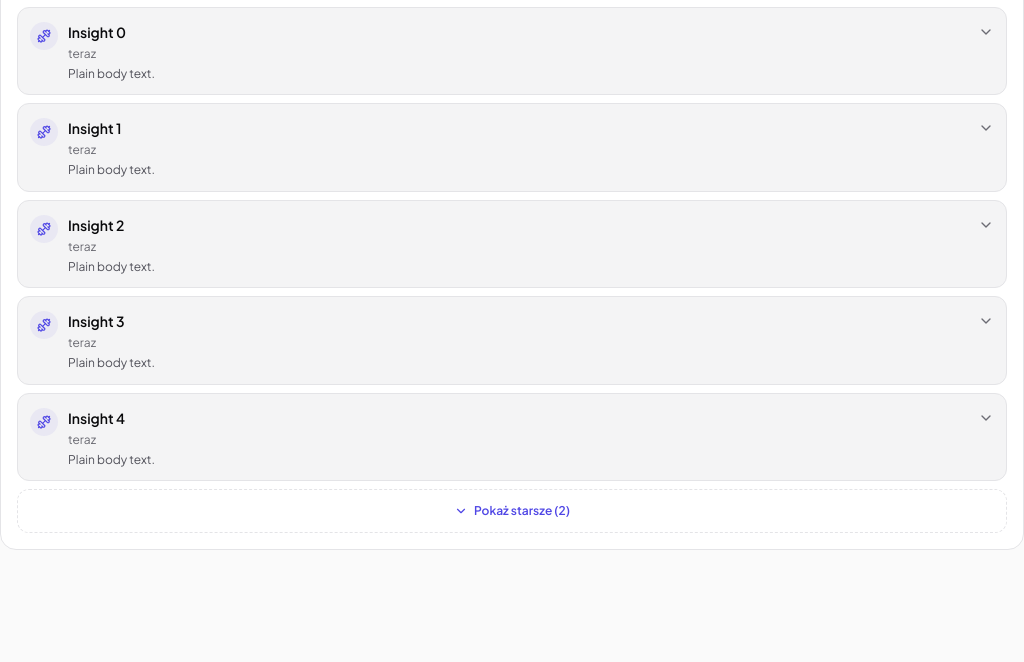
Scenario: AiCoachHistory › caps the list and reveals older items via the show-older button
The width and height of the screenshot is (1024, 662).
Check: the text "Insight 0" is shown, box [68,22,126,40]
Check: the text "Insight 5" is not shown
Click the button "Pokaż starsze (2)".
click(512, 511)  # box [17,489,1007,533]
(page scrolled)
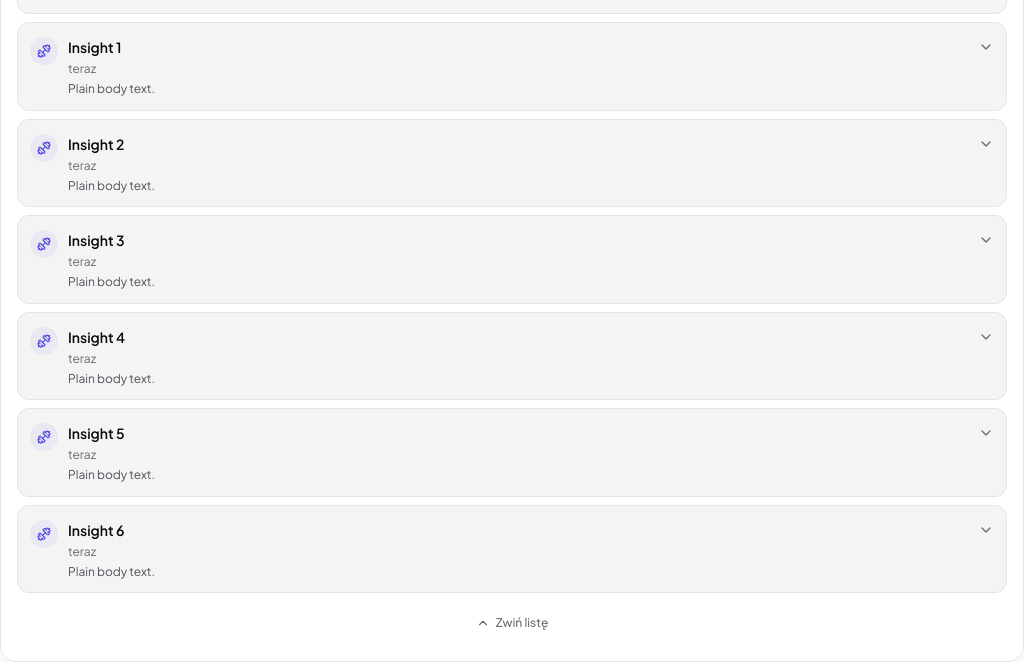
Check: the text "Insight 6" is shown, box [68,520,124,538]
Check: the button "Zwiń listę" is shown, box [17,601,1007,645]
